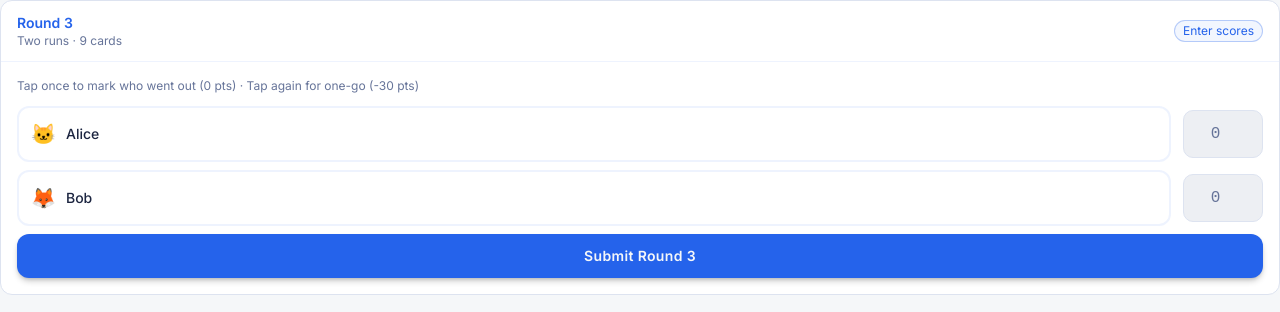
Test case: ScoreEntry — went out toggle › second tap cycles to ONE GO with negative score
The width and height of the screenshot is (1280, 312).
Click the button "🐱 Alice" at [83, 134], box [17,106,1171,162]
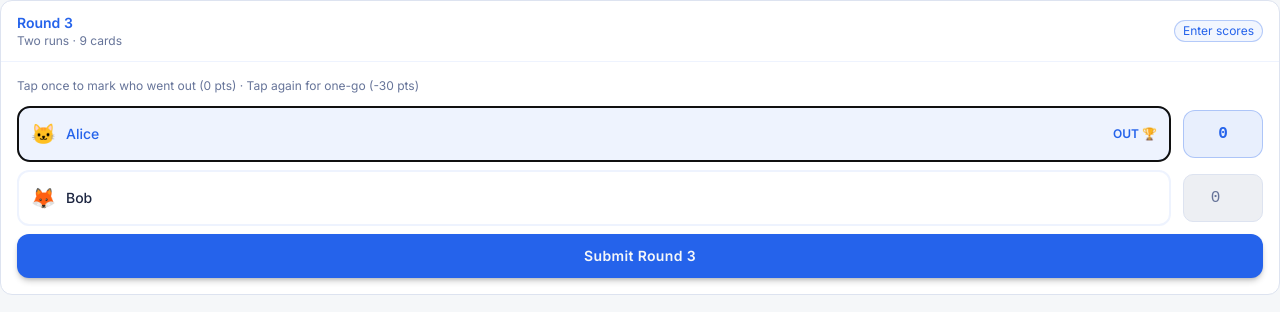
Click the button "🐱 Alice OUT 🏆" at [83, 134], box [17,106,1171,162]
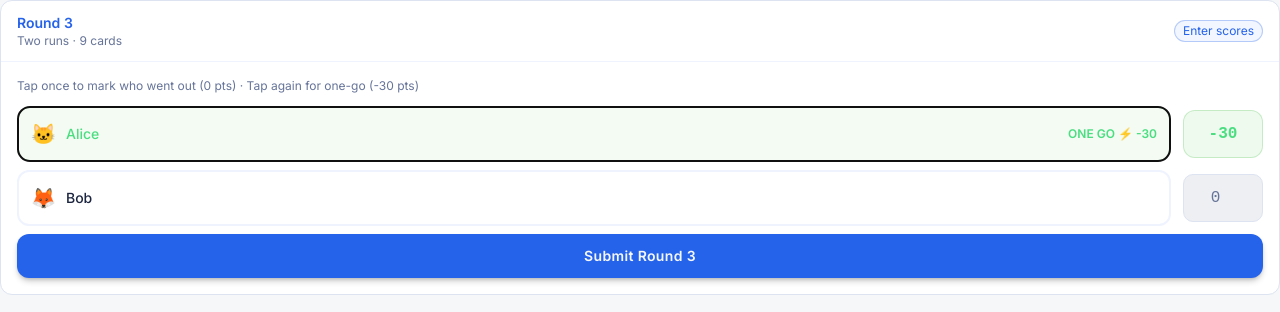
Expected: the text "ONE GO ⚡ -30" is shown, [1068,126,1157,142]
Expected: the text "-30" is shown, [1183,110,1263,158]
